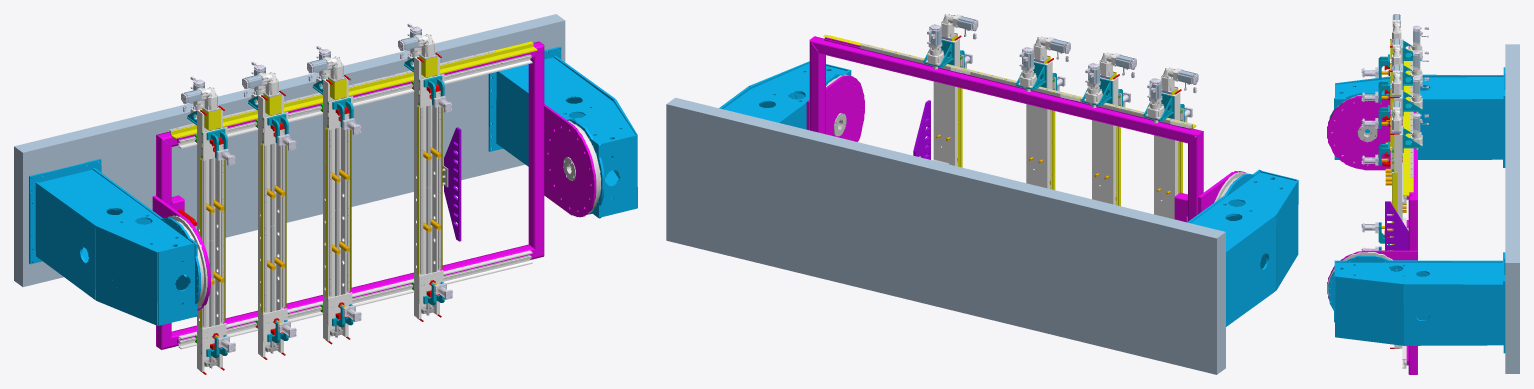
Rendered from assembleStation_optimized.glb.
3 renders of one model, left to right at view 1: azimuth 30°, elevation 25°; view 2: azimuth 150°, elevation 25°; view 3: azimuth 270°, elevation 25°, orthographic. The views are drawn at different scales.
Visible parts, largest first — view 1: Product1.2 (×6), Part1.1 (×2), rightColumn, Product1.3, Product1.4, Product1.1, Product1.5; view 2: Part1.1 (×2), Product1.2 (×2), rightColumn, Product1.1, Product1.3, Product1.4, Product1.5; view 3: rightColumn, Product1.2 (×3), Part1.1 (×3), Product1.3, GBZH-05-03-01-01.1 (×4), ABR090L2-12-P2-S2-19-40-70-90-M6.1 (×4), 100JJHMI-Y-1-M-150-D.2 (×4), EM3A-10AL.1 (×4).
Boxes of the visible parts, <box> form: Product1.2 (×6): <box>29,41,596,349</box>; Part1.1 (×2): <box>14,14,565,286</box>; rightColumn: <box>488,46,637,218</box>; Product1.3: <box>414,52,442,321</box>; Product1.4: <box>258,90,286,359</box>; Product1.1: <box>323,74,351,344</box>; Product1.5: <box>197,105,225,374</box>; Part1.1 (×2): <box>666,97,1225,374</box>; Product1.2 (×2): <box>806,34,1298,326</box>; rightColumn: <box>719,61,851,129</box>; Product1.1: <box>1026,58,1055,189</box>; Product1.3: <box>933,35,962,167</box>; Product1.4: <box>1092,74,1120,206</box>; Product1.5: <box>1154,89,1182,219</box>; rightColumn: <box>1327,252,1505,353</box>; Product1.2 (×3): <box>1327,46,1505,374</box>; Part1.1 (×3): <box>1378,44,1519,373</box>; Product1.3: <box>1390,126,1402,348</box>; GBZH-05-03-01-01.1 (×4): <box>1402,39,1422,152</box>; ABR090L2-12-P2-S2-19-40-70-90-M6.1 (×4): <box>1392,20,1401,131</box>; 100JJHMI-Y-1-M-150-D.2 (×4): <box>1361,67,1389,165</box>; EM3A-10AL.1 (×4): <box>1413,25,1428,130</box>.
Size of the model in its own units: 5.1 by 2.53 by 1.9.
